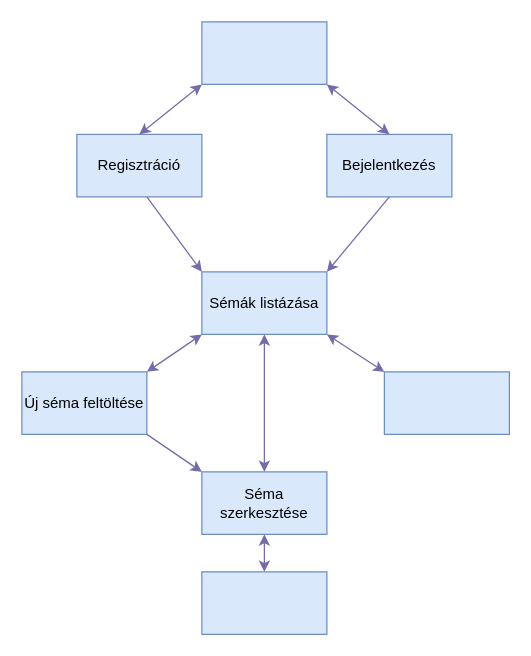
Image size: 531x656. Some labels were removed from this diagram. Each missing label, with the centre of its shape:
Beérkezett válaszok megtekintése: point 446,402
Nyitóoldal: point 264,52
Űrlap megtekintése: point 264,602
